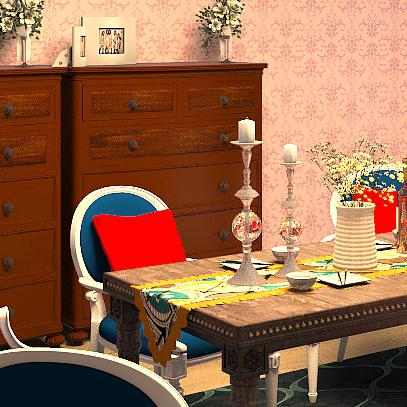table: (102, 242, 407, 407)
